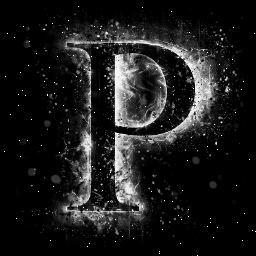p: (51, 20, 203, 232)
